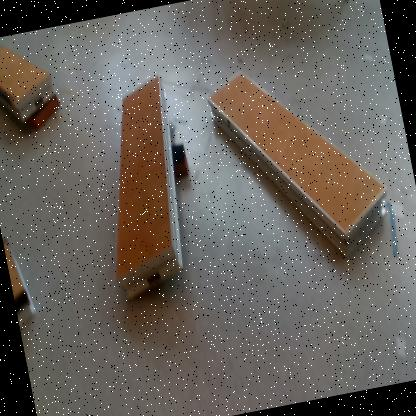Stairs: (207, 71, 390, 261), (114, 74, 184, 303), (1, 45, 57, 125), (4, 240, 38, 332)
